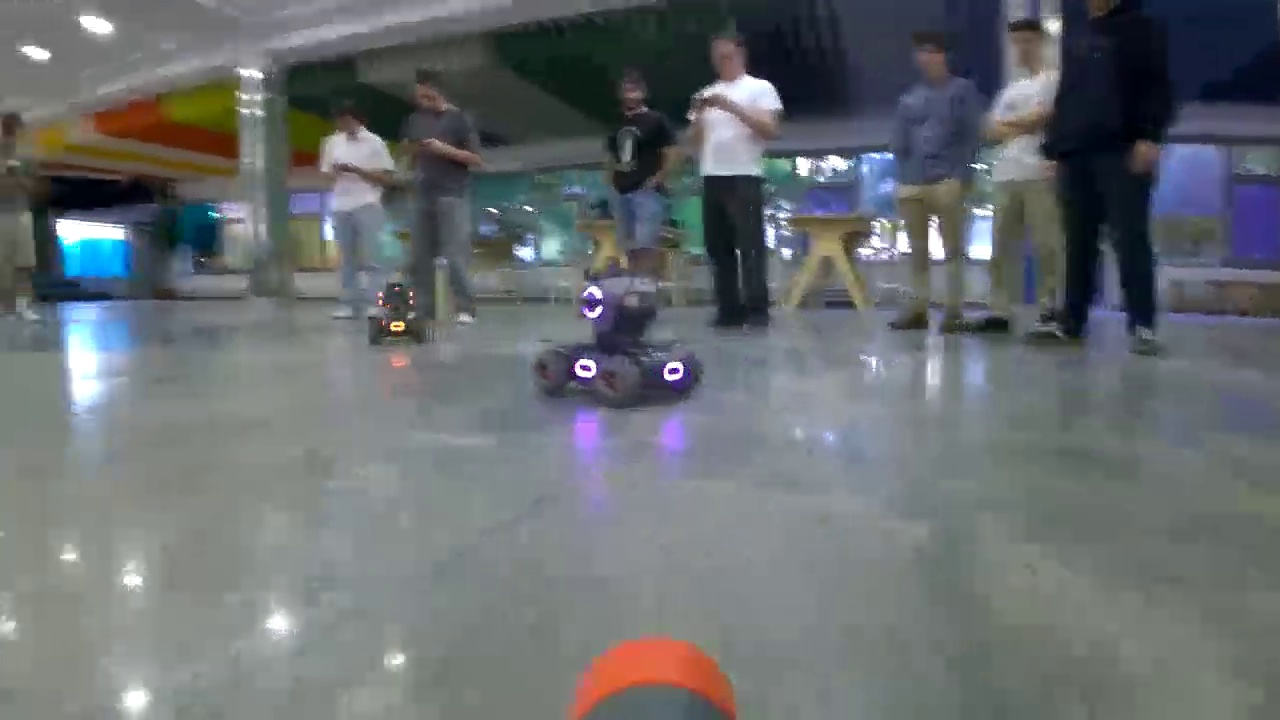robot: (533, 270, 699, 402), (369, 282, 426, 343)
